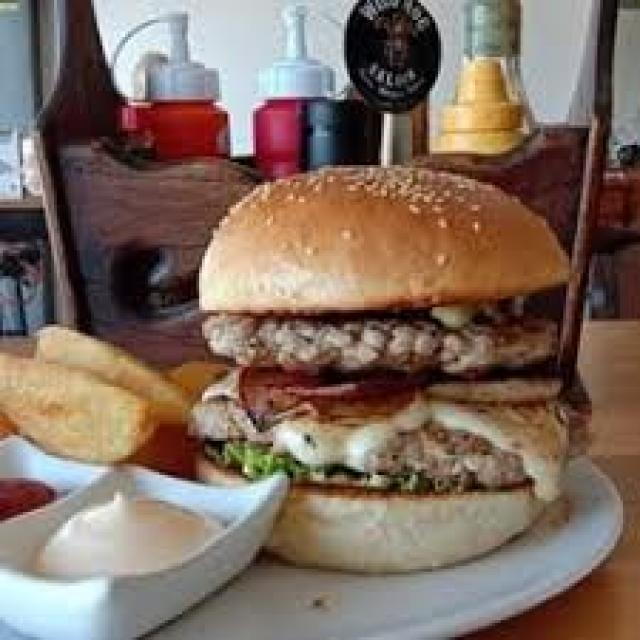burger: (188, 165, 592, 577)
